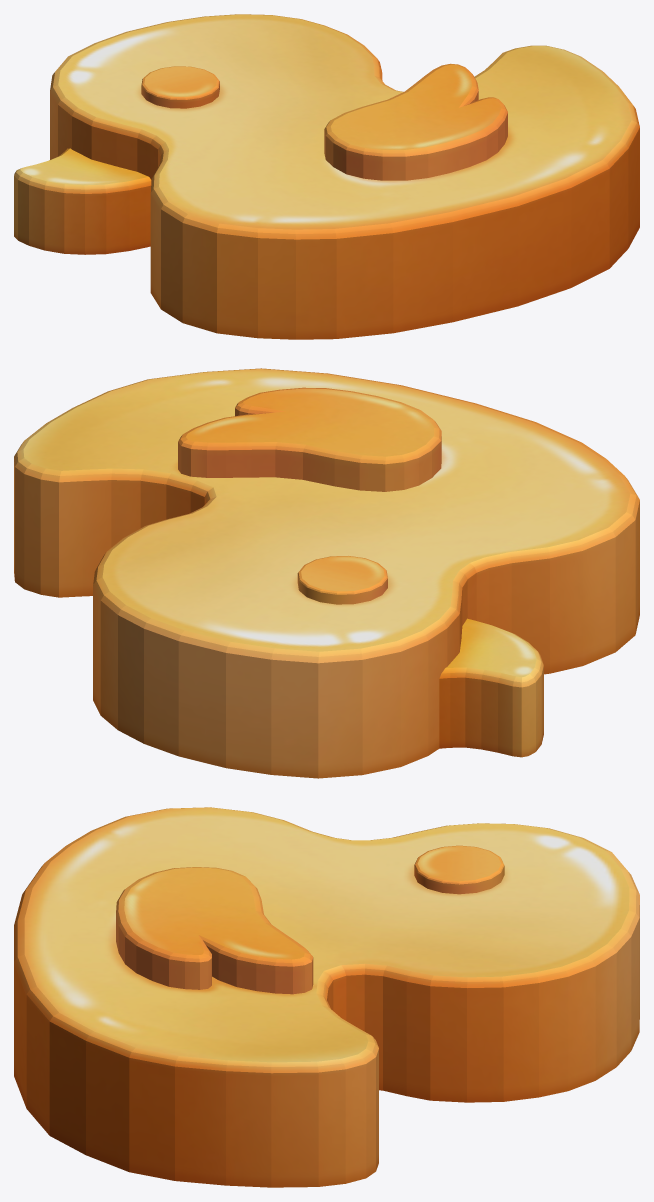
File: 新糖果工厂-道具-糖果07.FBX
The picture shows the model from 3 angles, top to bottom: view 1: azimuth 30°, elevation 25°; view 2: azimuth 150°, elevation 25°; view 3: azimuth 270°, elevation 25°; orthographic projection. The views are drawn at different scales.
Visible parts, largest first — view 1: 新糖果工厂-道具-糖果07; view 2: 新糖果工厂-道具-糖果07; view 3: 新糖果工厂-道具-糖果07.
Part boxes in pixels (left/top/right/bottom): 新糖果工厂-道具-糖果07: left=14, top=14, right=639, bottom=339; 新糖果工厂-道具-糖果07: left=14, top=368, right=639, bottom=778; 新糖果工厂-道具-糖果07: left=14, top=807, right=639, bottom=1187.
Bounding box in the file's own units: 7.9 × 1.99 × 7.38.
